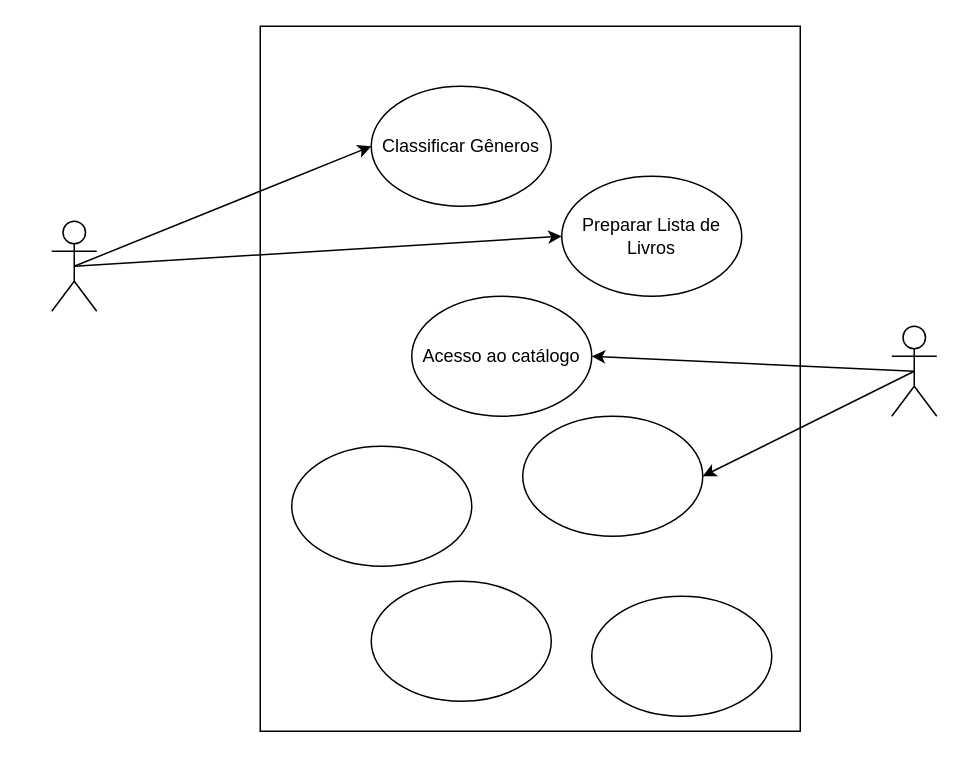
The diagram is 971 pixels wide and 758 high, and some of its shapes have lost their labels. Here are the shapes that lost their labels. From the top down, the centre of each, then its label:
pixel 73 265: Bibliotecário
pixel 913 370: Usuário
